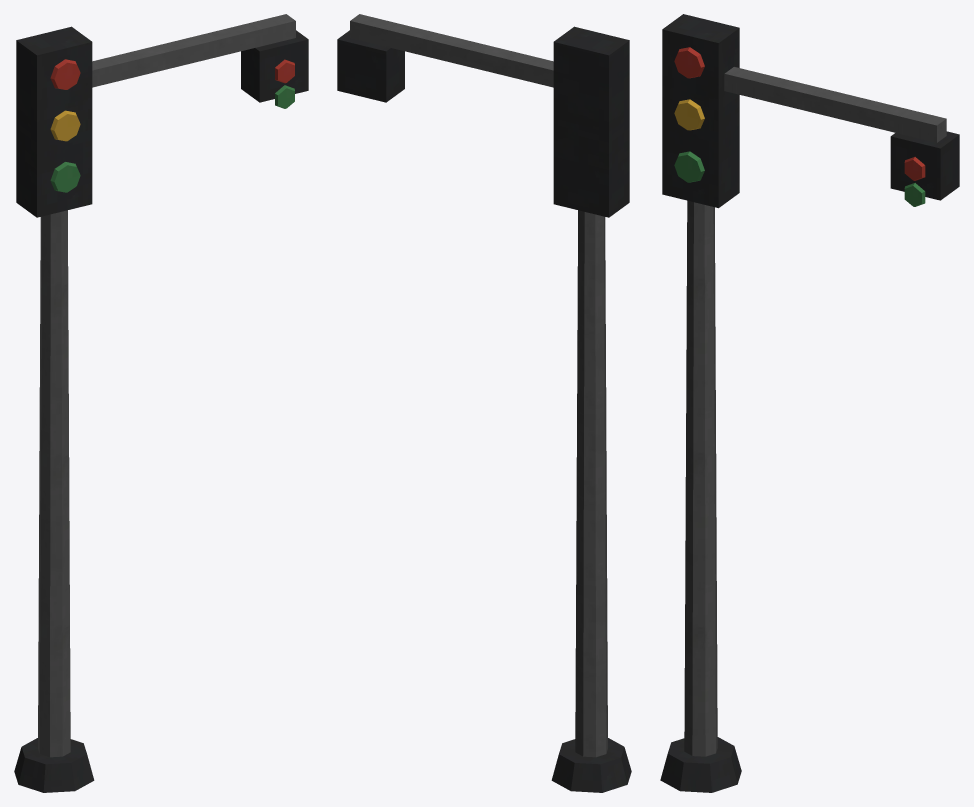
The model's file is traffic_light_01.glb.
The picture shows the model from 3 angles, left to right: view 1: azimuth 30°, elevation 25°; view 2: azimuth 150°, elevation 25°; view 3: azimuth 330°, elevation 25°; orthographic projection.
Visible parts, largest first — view 1: traffic_light_01; view 2: traffic_light_01; view 3: traffic_light_01.
Part boxes in pixels (left/top/right/bottom): traffic_light_01: left=14, top=14, right=308, bottom=792; traffic_light_01: left=337, top=14, right=631, bottom=792; traffic_light_01: left=660, top=14, right=959, bottom=792.
Size of the model in its own units: 1.72 by 4.3 by 0.4399.
5 materials, 5 textured.
